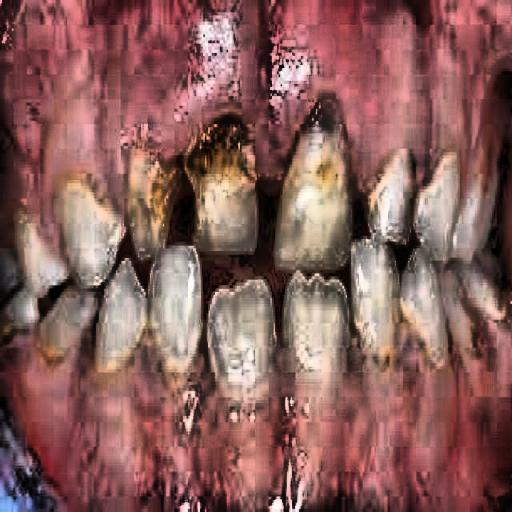Caries: (94, 86, 289, 290)
